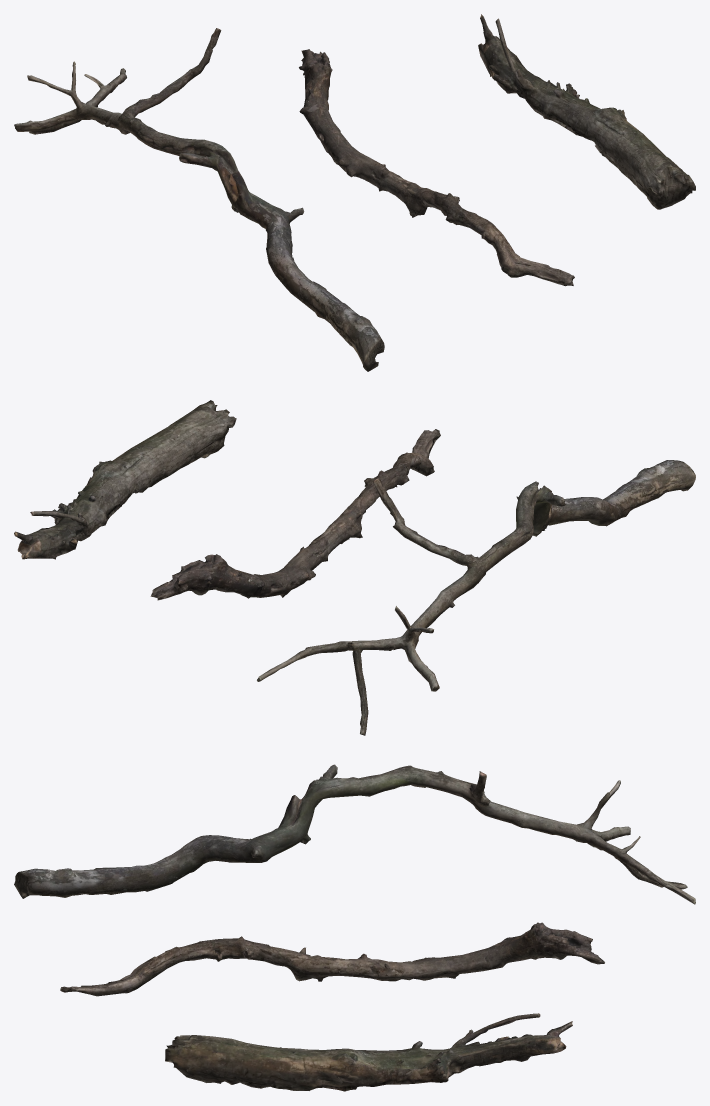
The model's file is dry_branches_medium_01.glb.
3 views of the same model, one above another, from view 1: azimuth 30°, elevation 25°; view 2: azimuth 150°, elevation 25°; view 3: azimuth 270°, elevation 25° (orthographic). The views are drawn at different scales.
Parts seen in each view (by area): view 1: dry_branches_medium_01_c; view 2: dry_branches_medium_01_c; view 3: dry_branches_medium_01_c.
Boxes of the visible parts, left/top/right/bottom form: dry_branches_medium_01_c: left=14, top=14, right=695, bottom=371; dry_branches_medium_01_c: left=14, top=400, right=695, bottom=735; dry_branches_medium_01_c: left=14, top=764, right=695, bottom=1091.
Size of the model in its own units: 1.06 by 0.341 by 1.3.
Materials: 1 (1 with a texture image).
